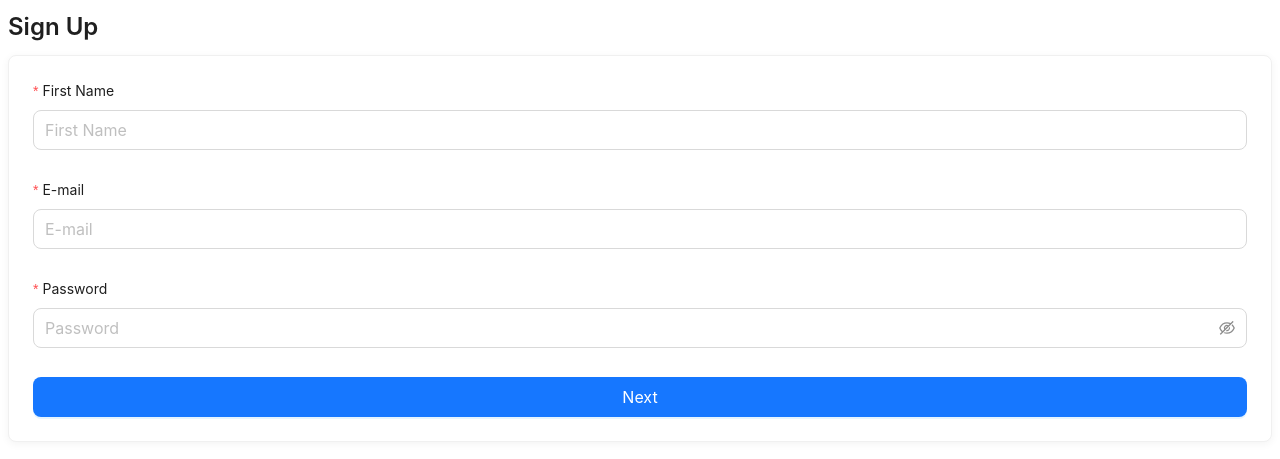
it: UserData page › Form validations › should not submit form when firstName is empty
This screenshot has width=1280, height=459.
Type "test@upgrade.com" into the field with test id "email-input".
click(640, 229); type("test@upgrade.com")  # box [33,209,1247,249]
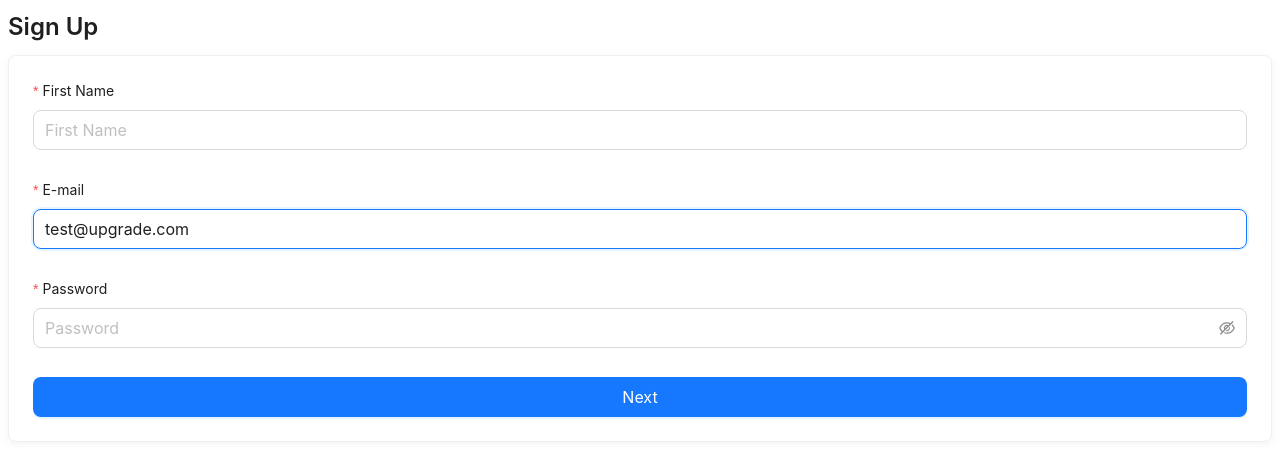
Type "password123" into the password field with test id "password-input".
click(630, 328); type("password123")  # box [45,316,1215,340]
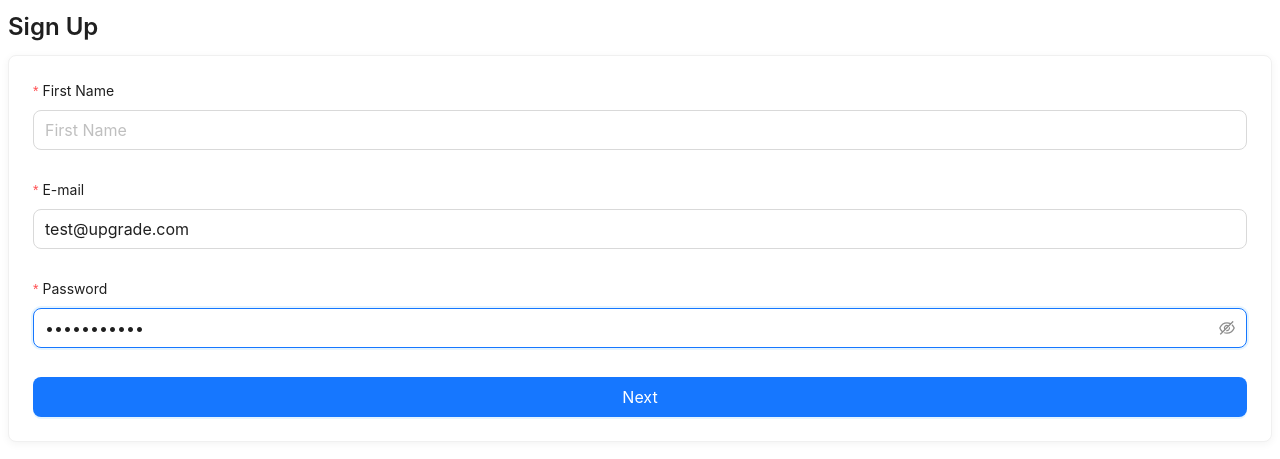
Click the button with test id "submit-button".
click(640, 397)  # box [33,377,1247,417]
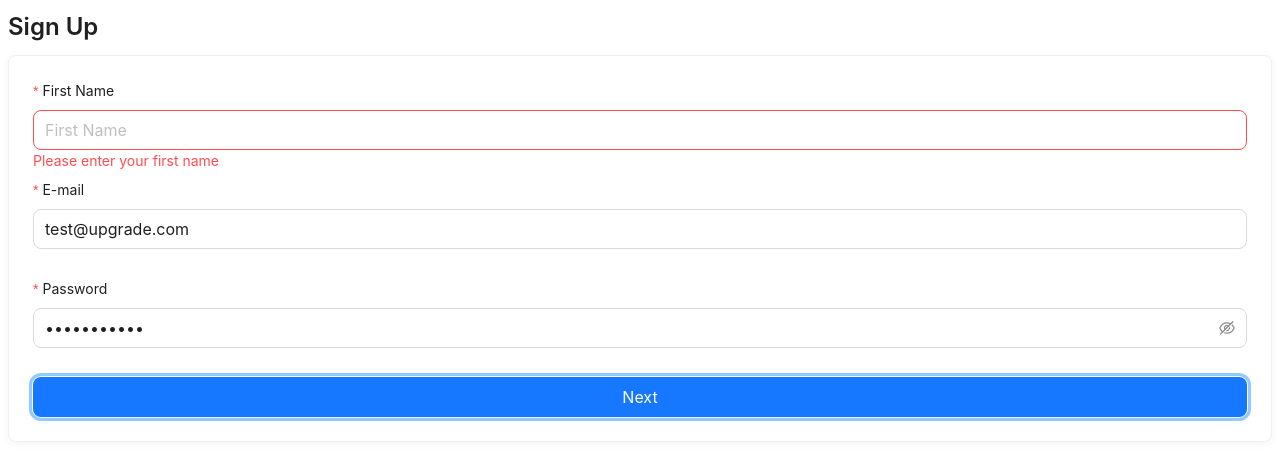
Check: the text "Please enter your first name" is shown, box [33,152,219,169]
